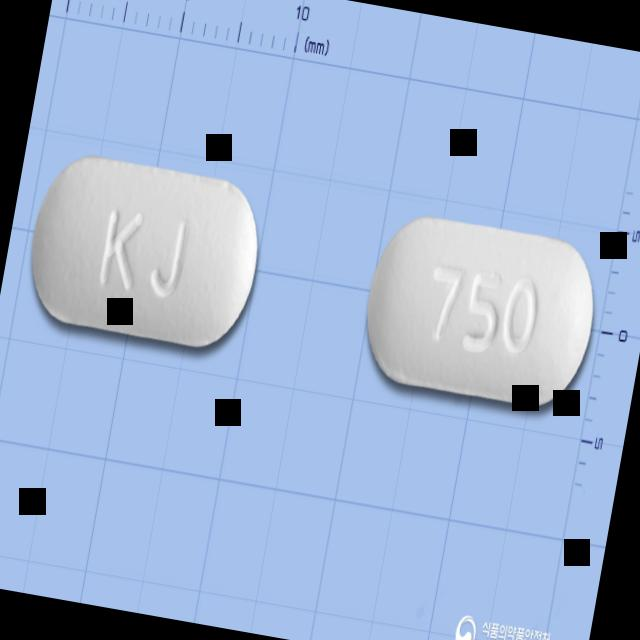Clabicks: (352, 205, 606, 416), (18, 146, 270, 354)
